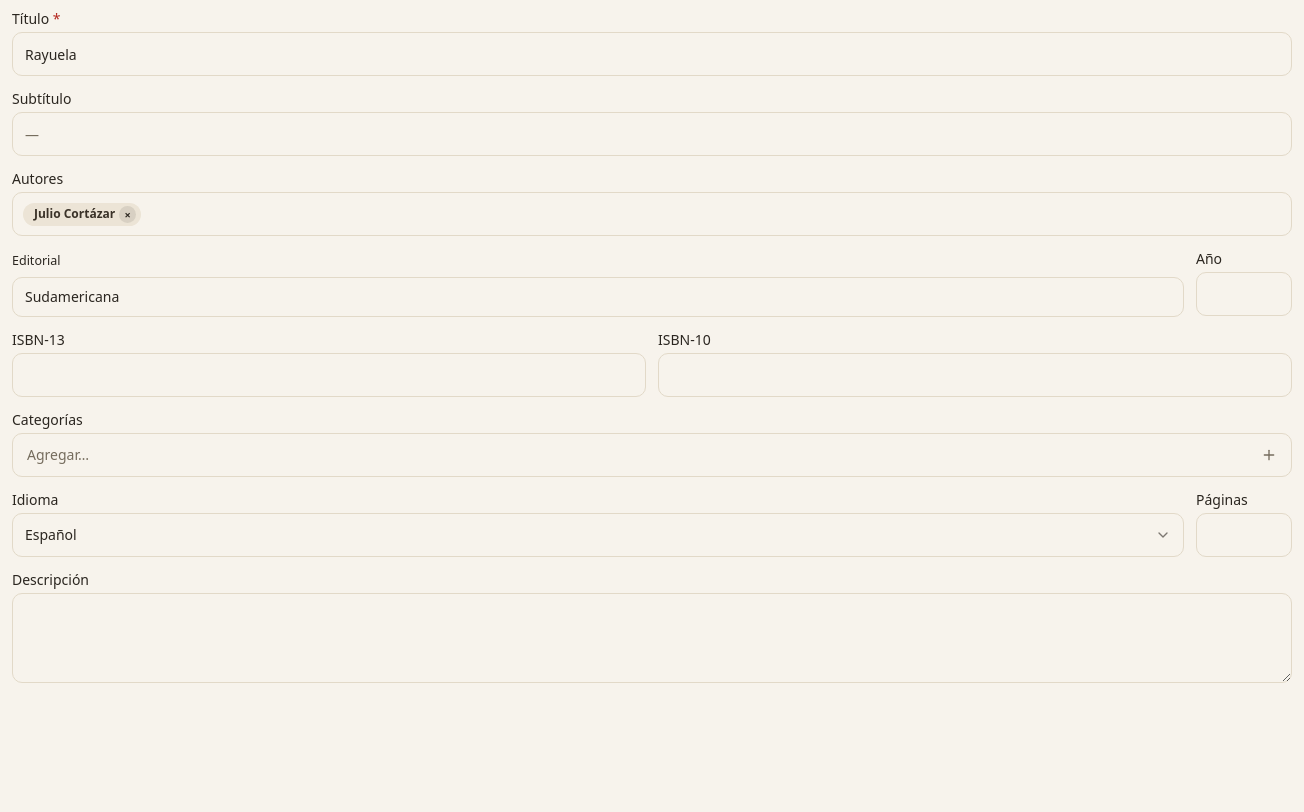
Test: BookFields › edit screen: a resolved single match updates publisher and coverUrl, nothing persisted
Replace the text in the field labelled "Editorial" with "Debolsillo" at (598, 297), box 12,277 -> 1184,317
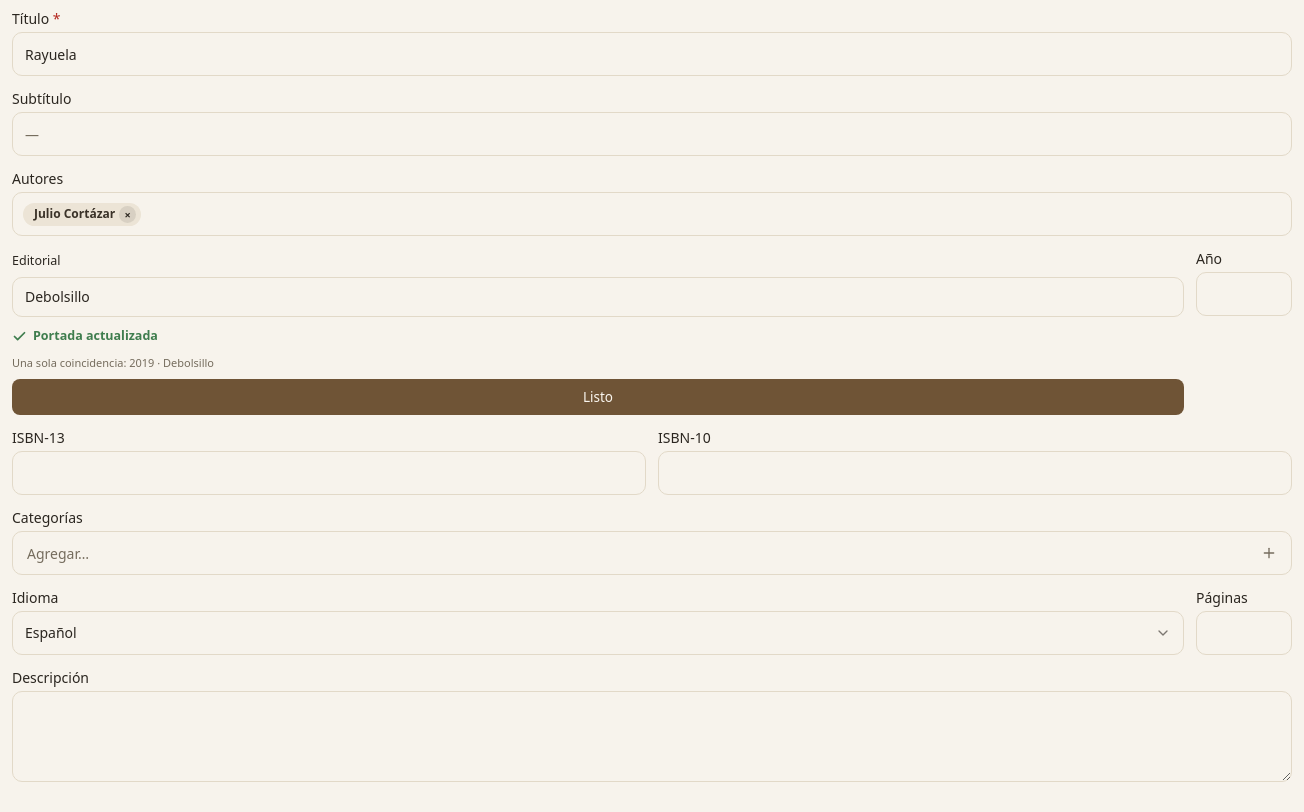
expect the text "Portada actualizada" is shown: met, box 33,327 -> 158,346
